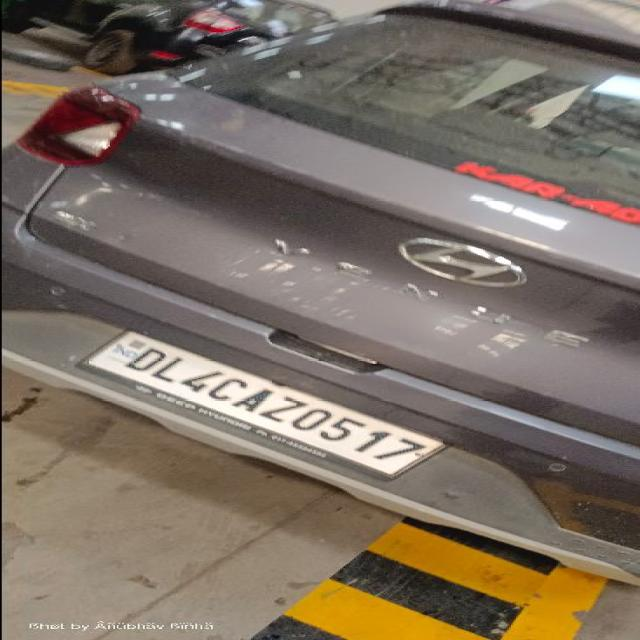license_plate: (75, 328, 450, 481)
